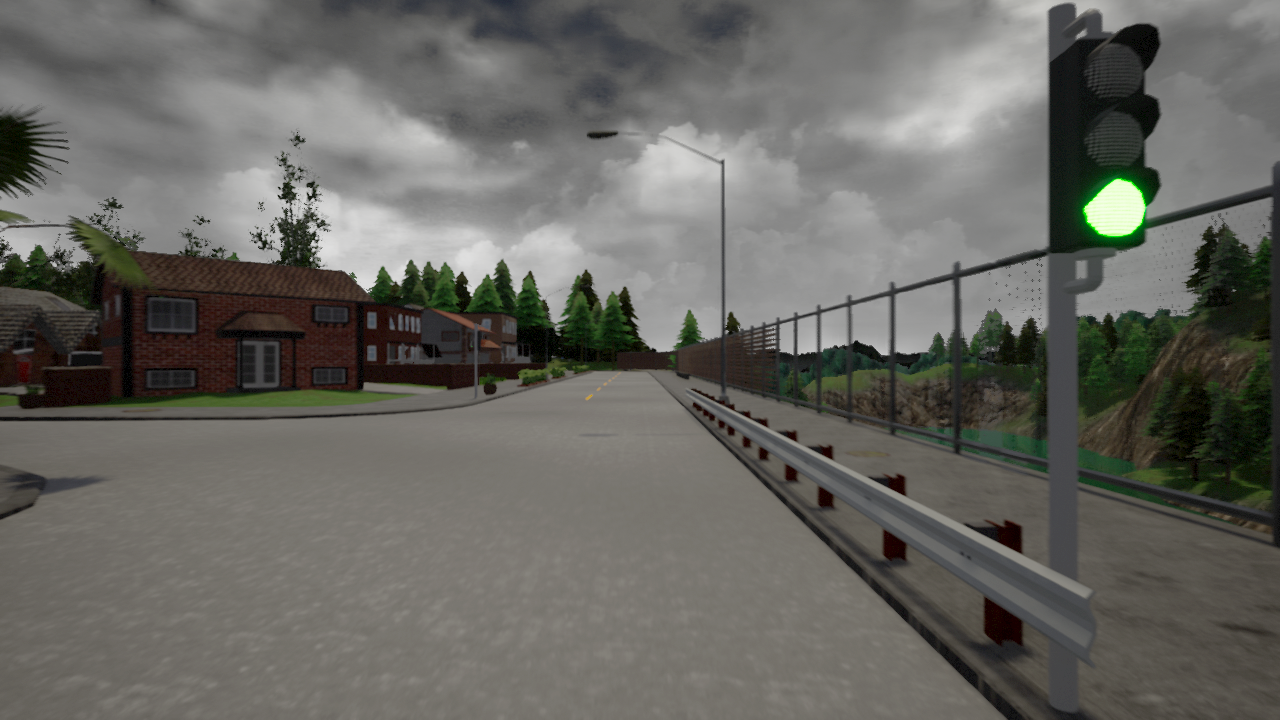green: (1054, 26, 1162, 275)
